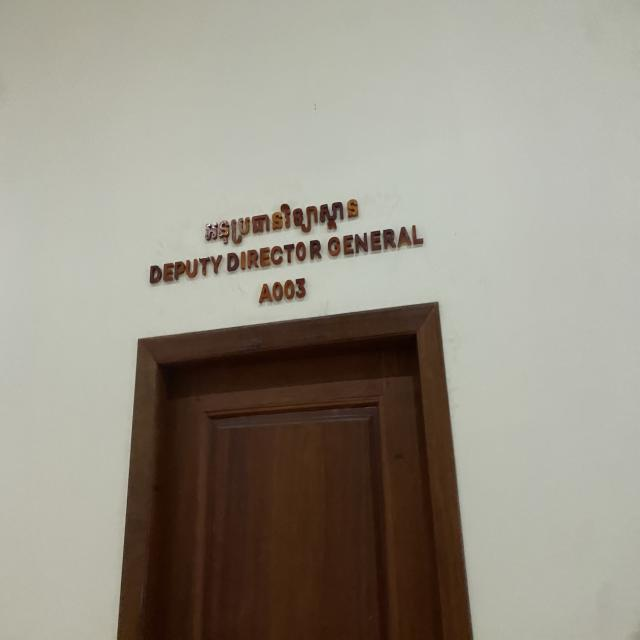Yolov11kh: (201, 189, 367, 251)
